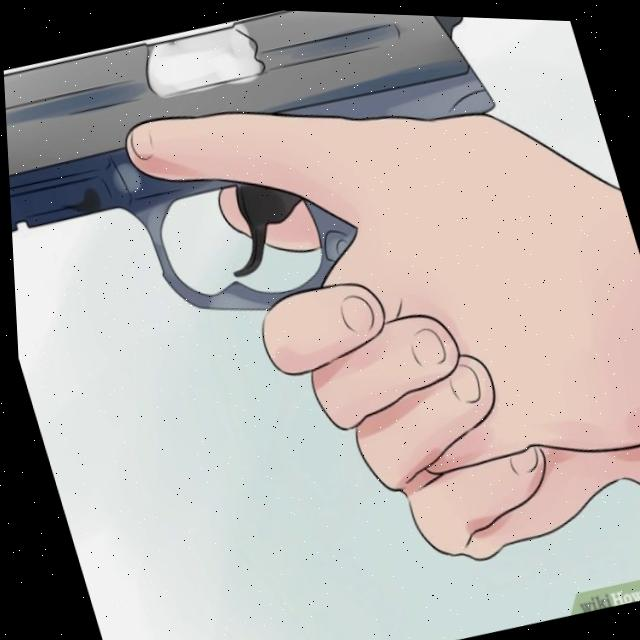pistol: (0, 0, 544, 378)
